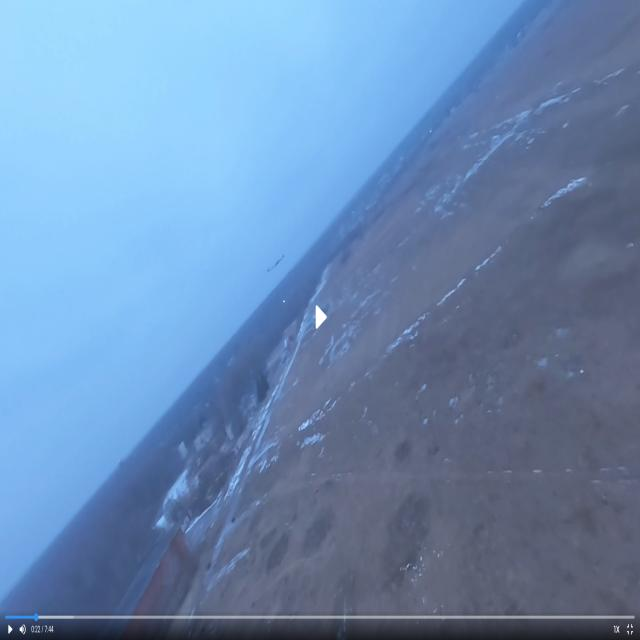planedrone: (264, 246, 286, 275)
